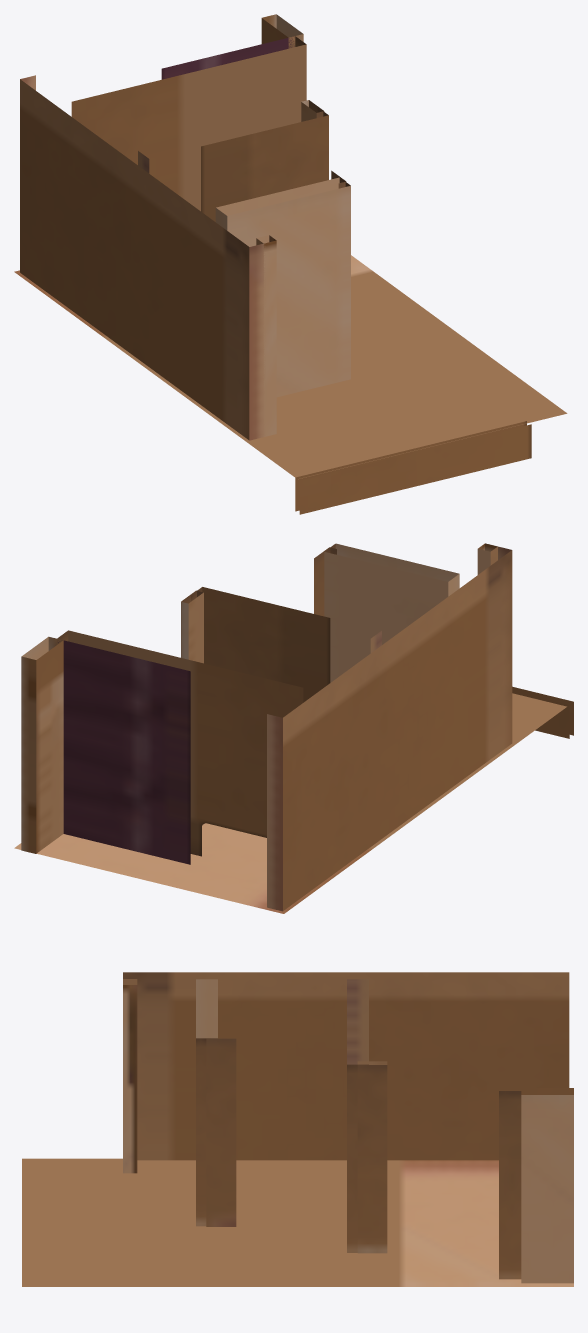
Rendered from section-7.obj.
3 views of the same model, one above another, from view 1: azimuth 30°, elevation 25°; view 2: azimuth 150°, elevation 25°; view 3: azimuth 270°, elevation 25° (orthographic). The views are drawn at different scales.
Size of the model in its own units: 0.642 by 0.504 by 1.17.
